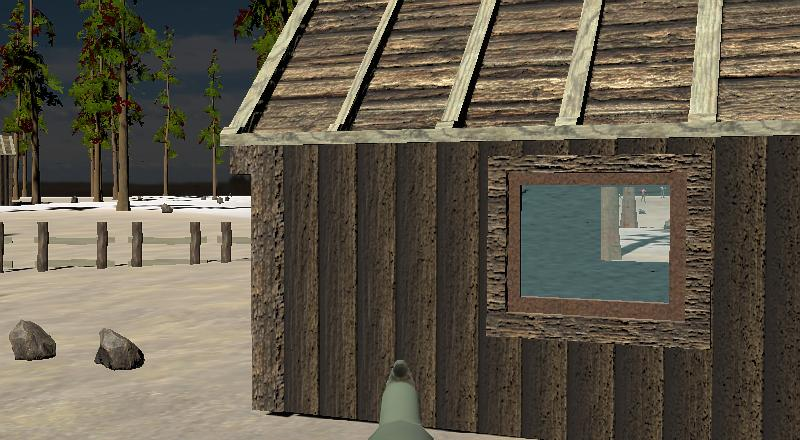House: (205, 0, 784, 440), (0, 132, 17, 202)
Human: (641, 189, 647, 207)
